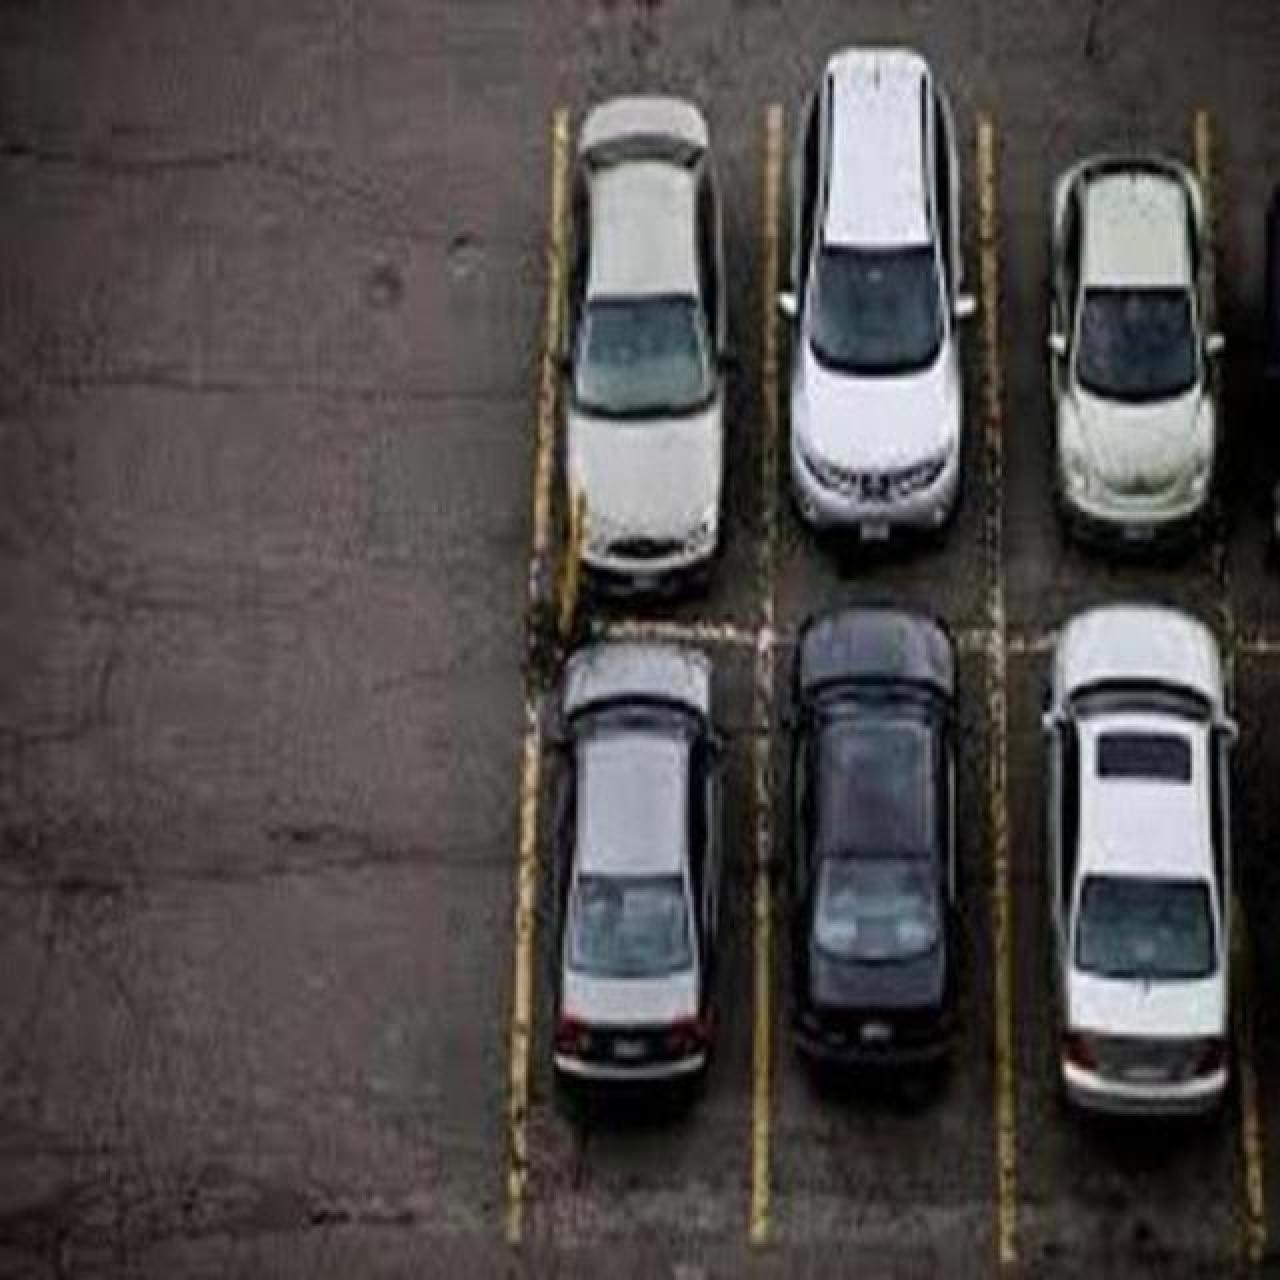car: (1039, 600, 1240, 1121), (774, 42, 976, 549), (779, 598, 966, 1078), (558, 91, 731, 600), (546, 634, 726, 1112), (1040, 150, 1226, 554)
